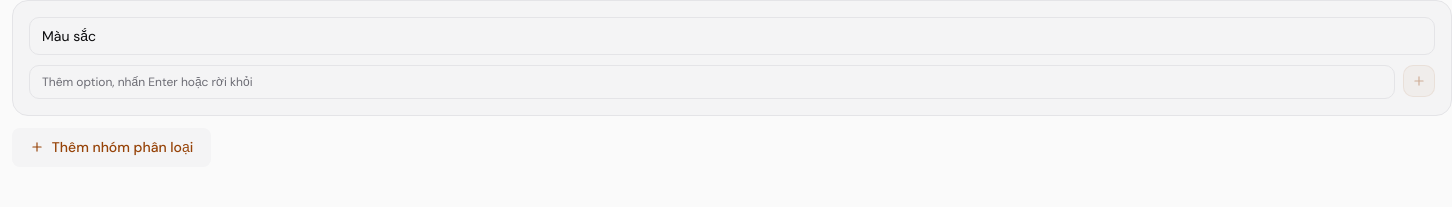
it: VariationBuilder — add option (sanity) › commits a typed option to its own group
Type "Đỏ" into the field with placeholder "Thêm option, nhấn Enter hoặc rời khỏi" at {"x": 712, "y": 82}, box [29, 65, 1395, 99]
Then press Enter
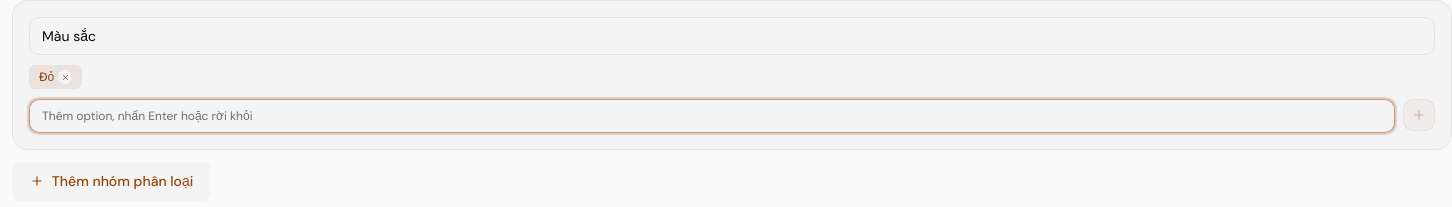
Check: the field with placeholder "Thêm option, nhấn Enter hoặc rời khỏi" is empty, box [29, 99, 1395, 133]
Check: the text "Đỏ" is shown, box [29, 65, 82, 89]
